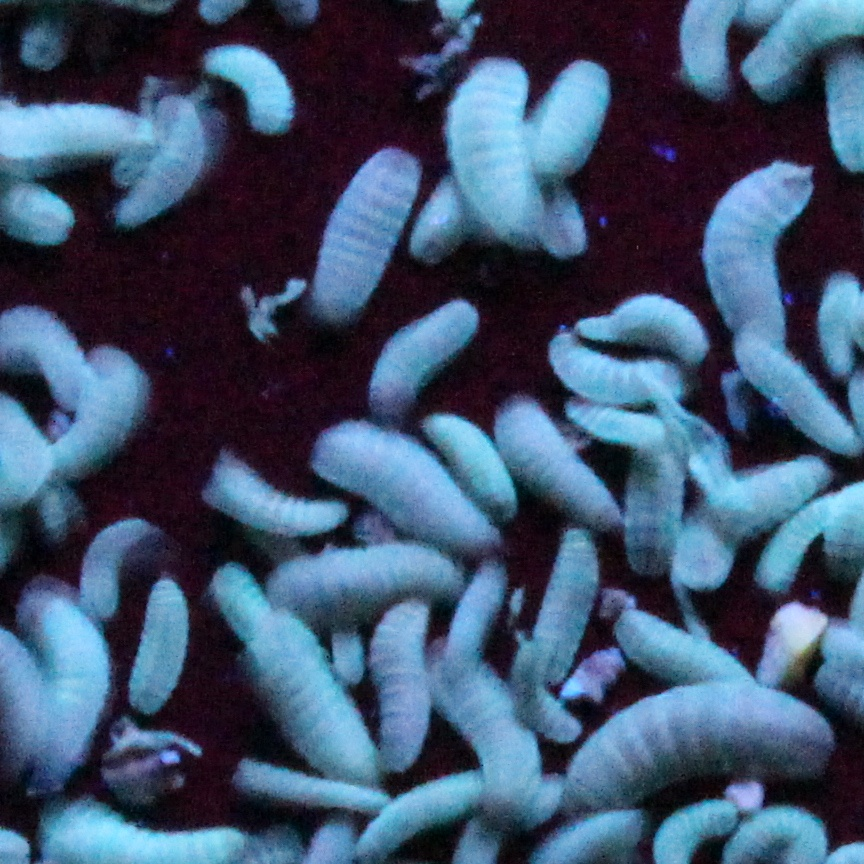larve: (557, 690, 842, 819), (241, 617, 397, 807), (413, 624, 555, 816), (304, 416, 481, 558), (304, 134, 431, 324), (696, 156, 817, 347), (37, 329, 157, 499), (486, 390, 629, 532), (441, 64, 552, 244), (610, 579, 755, 713), (363, 285, 485, 436), (734, 324, 862, 455), (249, 532, 462, 608), (526, 522, 606, 706), (524, 42, 616, 201), (546, 321, 696, 411), (571, 274, 714, 366), (196, 454, 345, 537), (123, 92, 211, 232), (417, 411, 522, 526), (198, 36, 302, 139), (132, 560, 191, 724), (75, 504, 152, 621)
